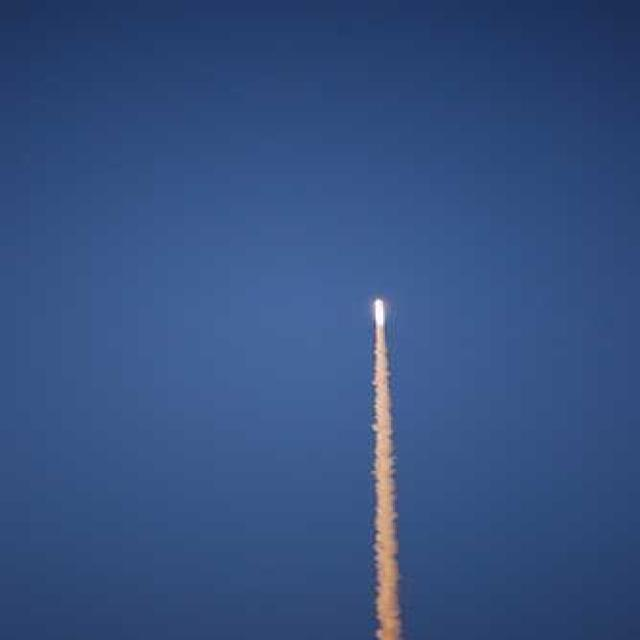missile: (368, 294, 393, 329)
